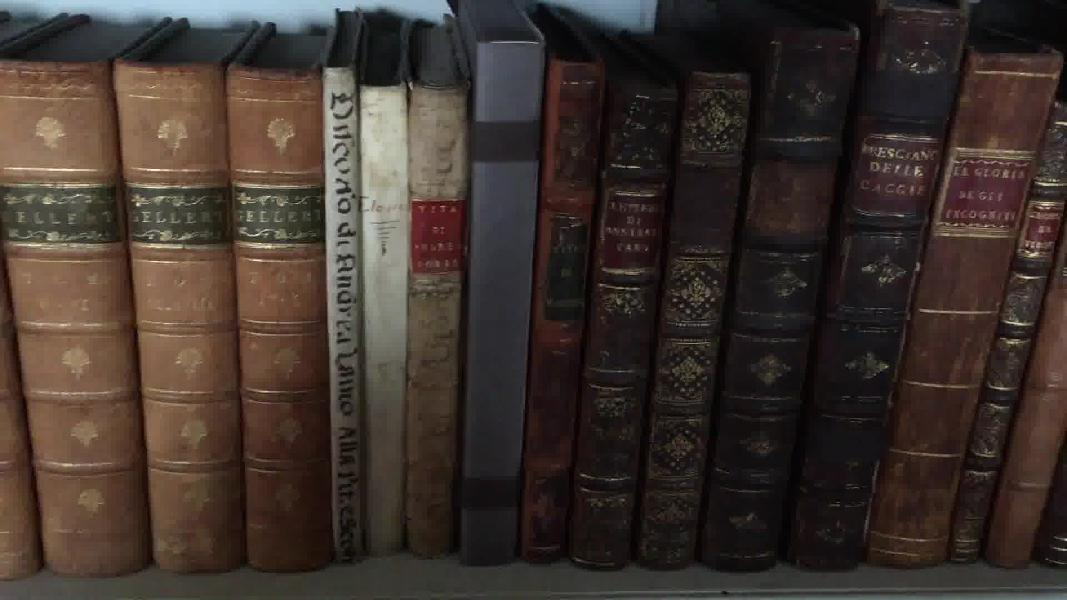Aa6-24: (324, 63, 374, 561)
Aa6-25: (361, 74, 420, 559)
Aa6-26: (404, 74, 470, 563)
Aa6-27: (465, 24, 543, 573)
Aa6-28: (528, 39, 597, 572)
Aa6-29: (571, 54, 670, 588)
Aa6-30: (640, 50, 738, 581)
Aa6-31: (697, 24, 850, 577)
Aa6-32: (789, 11, 946, 567)
Aa6-33: (856, 16, 1058, 573)
